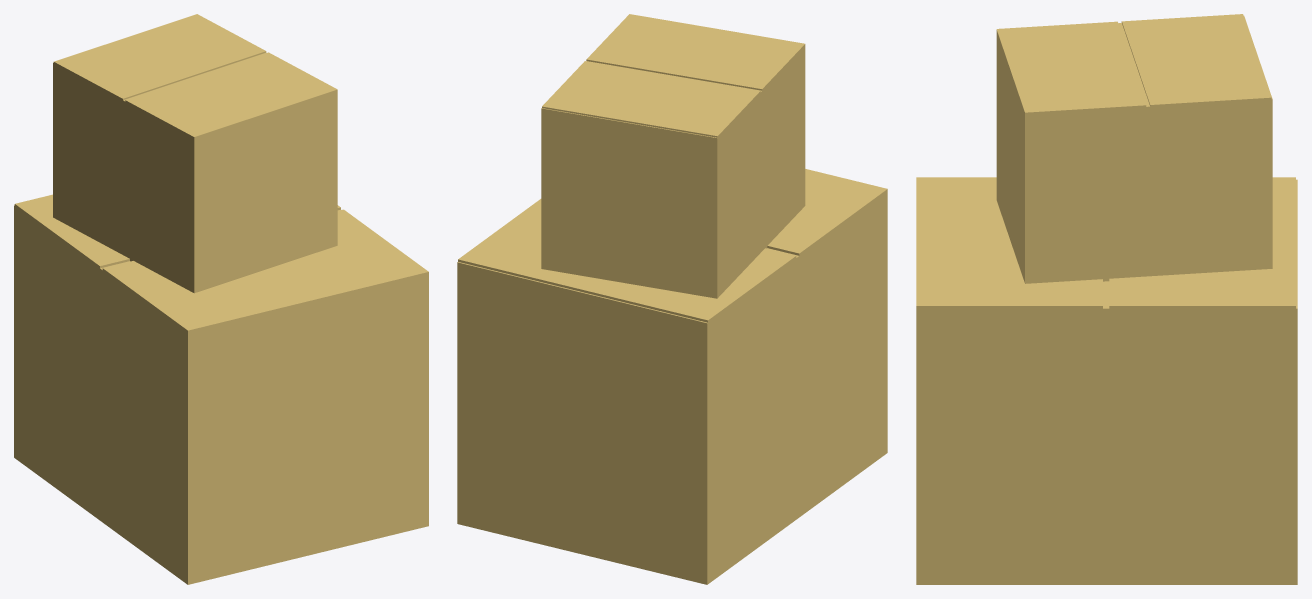
File: boxes.fbx
3 renders of one model, left to right at view 1: azimuth 30°, elevation 25°; view 2: azimuth 150°, elevation 25°; view 3: azimuth 270°, elevation 25°, orthographic. The views are drawn at different scales.
Visible parts, largest first — view 1: Cube, Cube.002, Cube.001, Cube.003; view 2: Cube, Cube.002, Cube.003, Cube.001; view 3: Cube, Cube.002, Cube.001, Cube.003.
Part boxes in pixels (bbox=[...]): Cube: bbox=[14, 194, 428, 584]; Cube.002: bbox=[53, 14, 337, 293]; Cube.001: bbox=[102, 209, 428, 332]; Cube.003: bbox=[125, 52, 337, 138]; Cube: bbox=[457, 192, 887, 584]; Cube.002: bbox=[541, 45, 805, 298]; Cube.003: bbox=[586, 14, 805, 90]; Cube.001: bbox=[767, 169, 887, 255]; Cube: bbox=[916, 177, 1297, 584]; Cube.002: bbox=[996, 14, 1272, 283]; Cube.001: bbox=[916, 177, 1102, 308]; Cube.003: bbox=[996, 21, 1146, 114].
Bounding box in the file's own units: 60.96 × 99.26 × 76.23.
